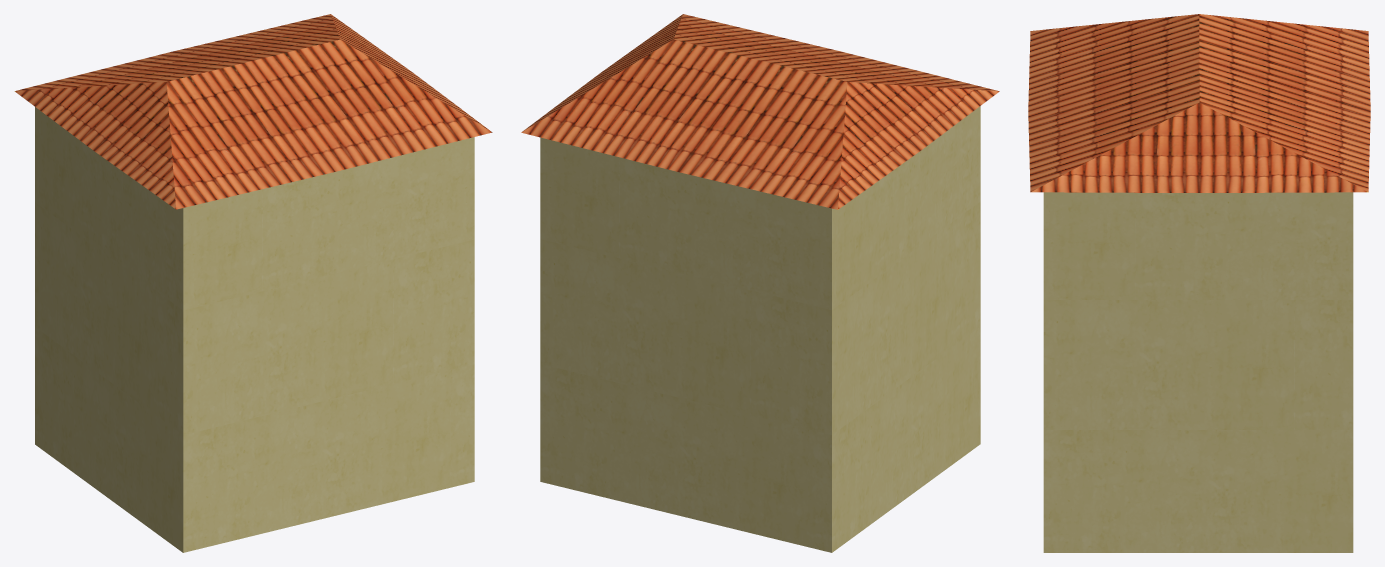
Rendered from House_Far_02.FBX.
3 views of the same model, side by side, from view 1: azimuth 30°, elevation 25°; view 2: azimuth 150°, elevation 25°; view 3: azimuth 270°, elevation 25° (orthographic). The views are drawn at different scales.
Parts seen in each view (by area): view 1: House_Far_02; view 2: House_Far_02; view 3: House_Far_02.
Part boxes in pixels (x1,y1,x2,y2): House_Far_02: (14,14,492,552); House_Far_02: (521,14,999,552); House_Far_02: (1028,14,1370,552).
Size of the model in its own units: 16.64 by 14.79 by 20.01.
